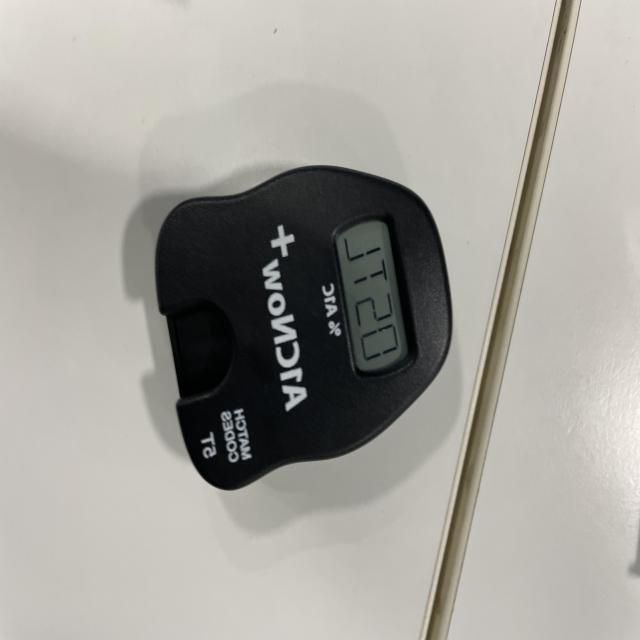hba1c: (149, 165, 455, 496)
